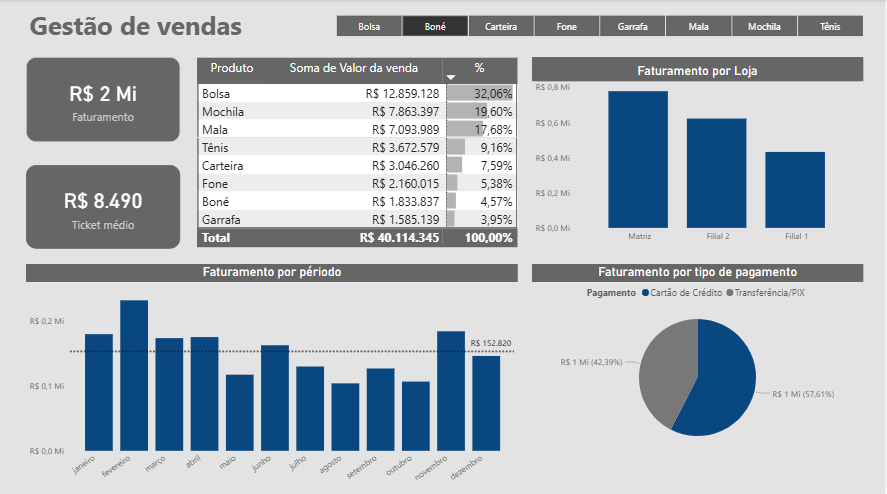

This screenshot's page, from the dashboard's own definition file:
{"tool":"powerbi","page":{"name":"Página 1","canvas":[1280,720],"ordinal":0},"visuals":[{"type":"card","fields":{"Values":["Sum(Vendas.Valor da venda)"]},"box":[39.3,83.6,223,123],"z":0},{"type":"card","fields":{"Values":["Avg(Vendas.Valor da venda)"]},"box":[39.3,239.3,223,121.3],"z":1000},{"type":"clusteredColumnChart","title":"Faturamento por périodo","fields":{"Y":["Sum(Vendas.Valor da venda)"],"Category":["Vendas.Data Pedido.Variation.Hierarquia de datas.Mês"]},"box":[39.3,383.6,711.5,336.1],"z":2000},{"type":"pieChart","title":"Faturamento por tipo de pagamento","fields":{"Y":["Sum(Vendas.Valor da venda)"],"Category":["Vendas.Pagamento"]},"box":[770.5,383.6,478.7,278.7],"z":3000},{"type":"clusteredColumnChart","title":"Faturamento por Loja","fields":{"Y":["Sum(Vendas.Valor da venda)"],"Category":["lojas.nome_loja"]},"box":[770.5,83.6,478.7,277],"z":4000},{"type":"tableEx","fields":{"Values":["Vendas.Produto","Sum(Vendas.Valor da venda)","Divide(Sum(Vendas.Valor da venda), ScopedEval(Sum(Vendas.Valor da venda), []))"]},"box":[277,83.6,473.8,277],"z":5000},{"type":"slicer","fields":{"Values":["Vendas.Produto"]},"box":[462.3,18,818,42.6],"z":6000},{"type":"textbox","box":[39.3,6.6,332.8,65.6],"z":7000}]}

Visuals, with their boxes in screenshot pixels (x1, y1, x2, y2), scaled from the page's 1280x720 canvas onto the 887x494 screenshot:
card - Sum(Vendas.Valor da venda): {"left": 27, "top": 57, "right": 182, "bottom": 142}
card - Avg(Vendas.Valor da venda): {"left": 27, "top": 164, "right": 182, "bottom": 247}
"Faturamento por périodo" clusteredColumnChart: {"left": 27, "top": 263, "right": 520, "bottom": 493}
"Faturamento por tipo de pagamento" pieChart: {"left": 534, "top": 263, "right": 866, "bottom": 454}
"Faturamento por Loja" clusteredColumnChart: {"left": 534, "top": 57, "right": 866, "bottom": 247}
tableEx - Vendas.Produto x Sum(Vendas.Valor da venda): {"left": 192, "top": 57, "right": 520, "bottom": 247}
slicer - Vendas.Produto: {"left": 320, "top": 12, "right": 886, "bottom": 42}
textbox: {"left": 27, "top": 5, "right": 258, "bottom": 50}
